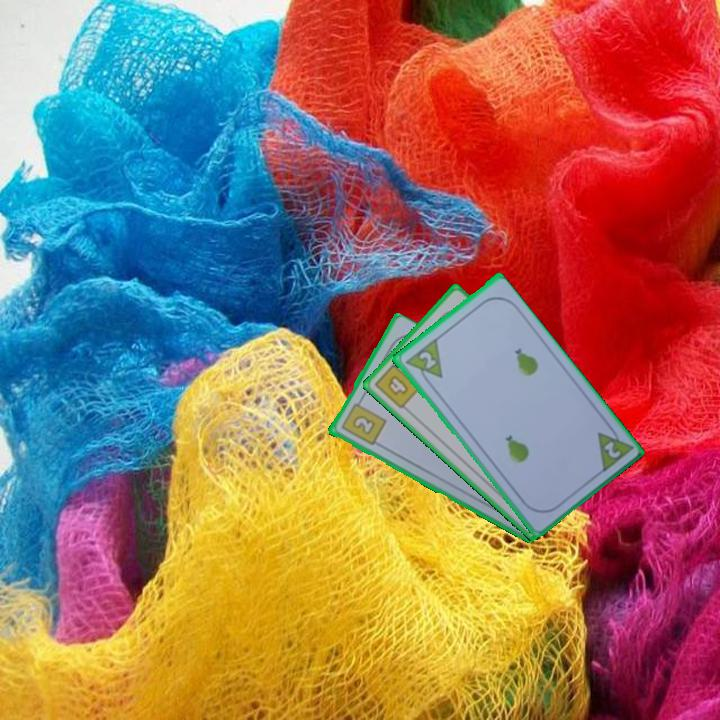2b: (337, 395, 388, 448)
2p: (599, 437, 623, 461), (415, 348, 439, 371)
4b: (371, 356, 423, 412)
